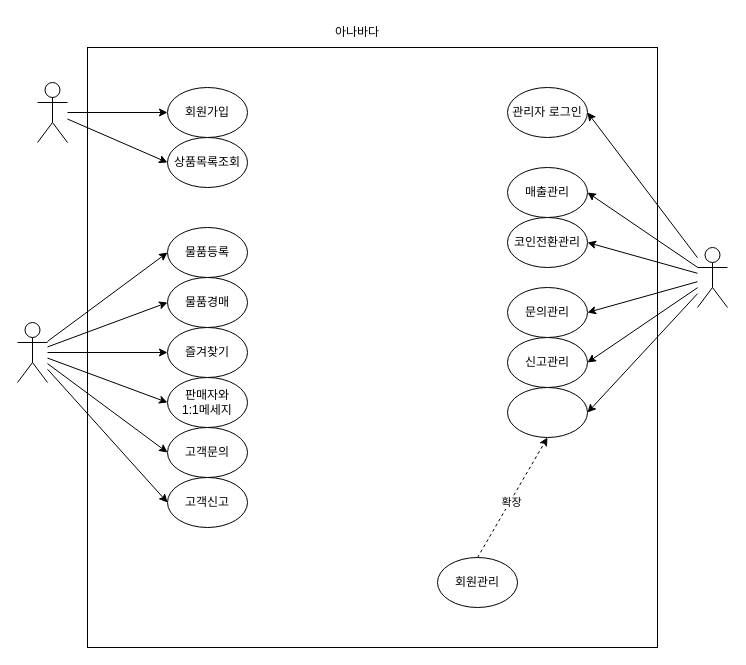
This 746x665 diagram has some shape labels left out. The centre of each missing label's shape, as x and y in pixels:
"관리자" goes at (x=712, y=277).
"비회원" goes at (x=52, y=112).
"회원" goes at (x=32, y=352).
"회원조회" goes at (x=547, y=412).
